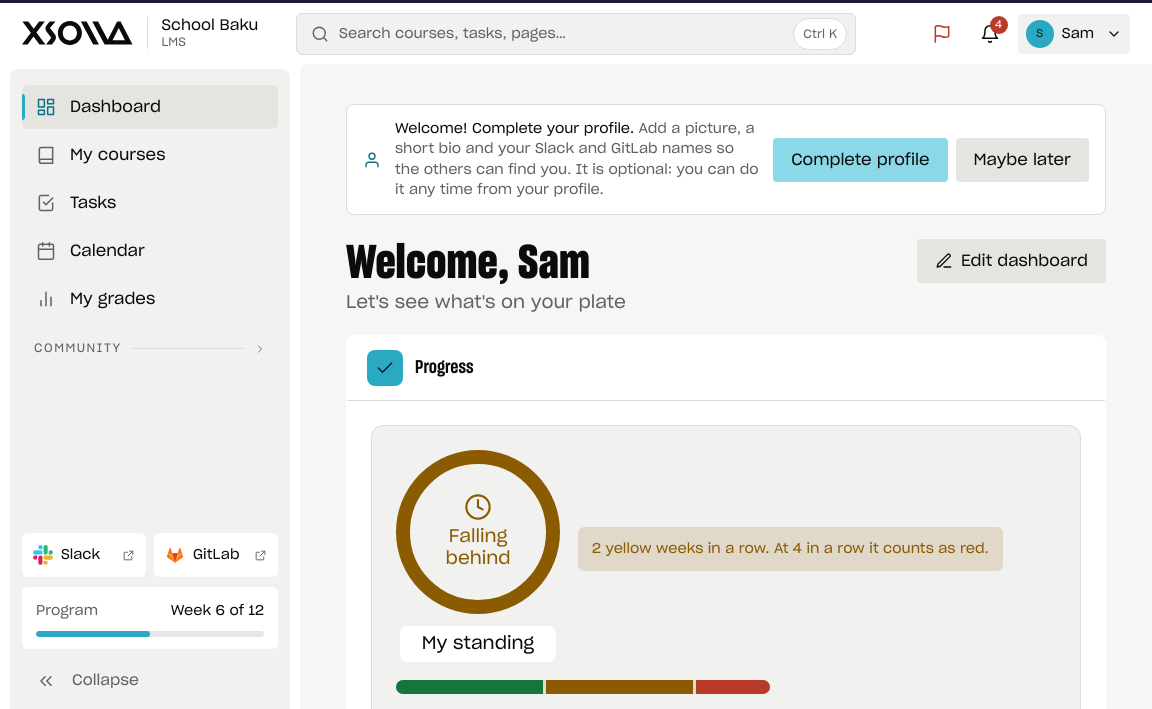
Scenario: the main sidebar folds its headed groups the same way › too tall: COMMUNITY becomes a button that opens and folds Office tour; the main links never fold
Expected: the link "Dashboard" is shown, [22,85,278,129]
Click the button "COMMUNITY" at (150, 348), box [22,341,278,356]
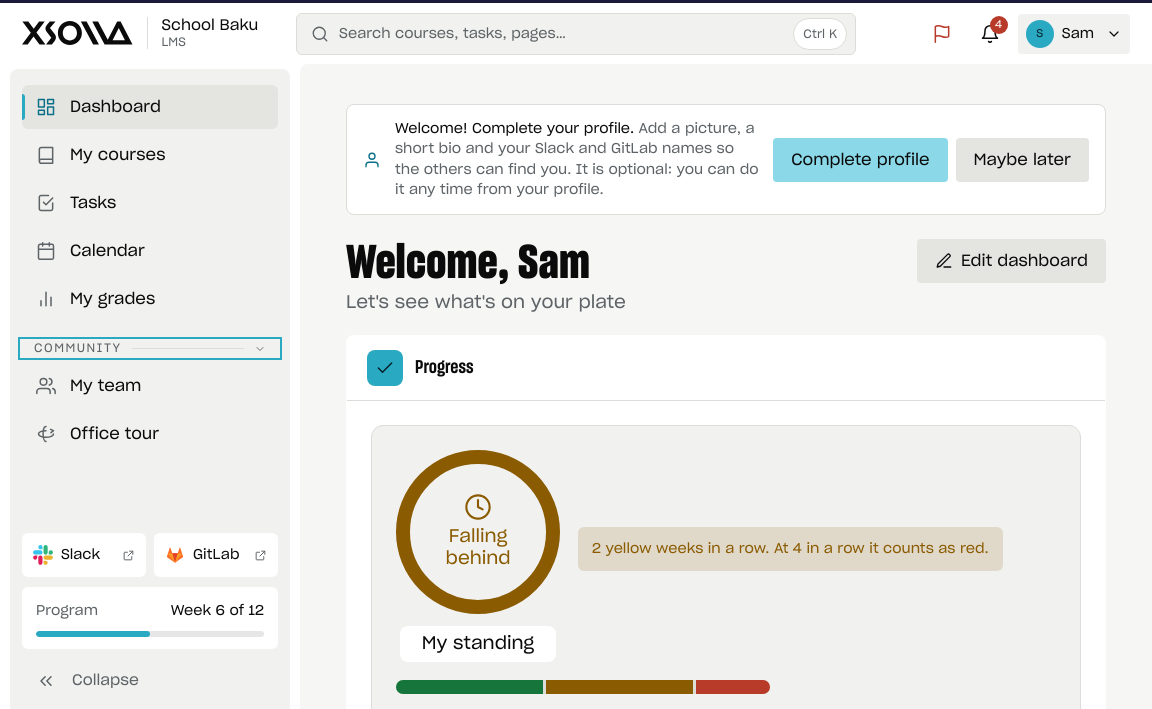
Expected: the button "COMMUNITY" is expanded, [22,341,278,356]
